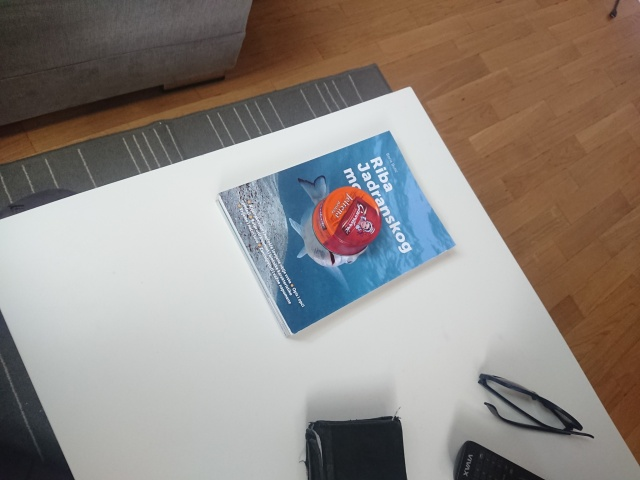Gavrilovic Pork Liver Pate 100g: (308, 182, 383, 257)
